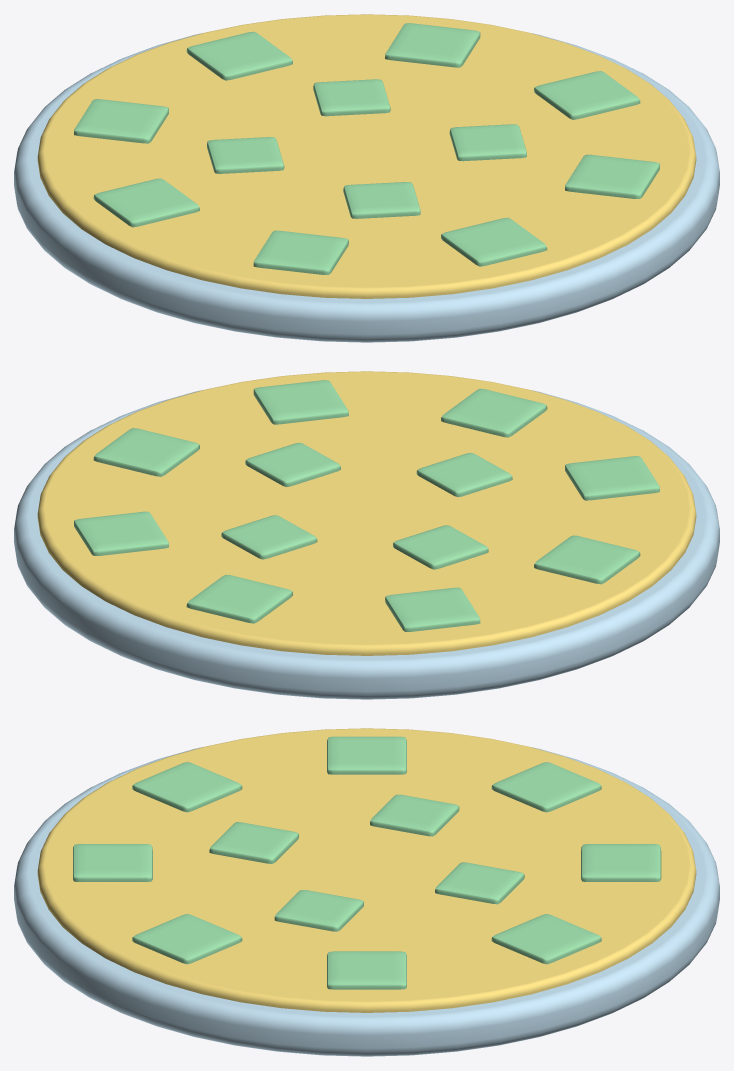
File: DiceDashPadFinish.glb
3 views of the same model, one above another, from view 1: azimuth 30°, elevation 25°; view 2: azimuth 150°, elevation 25°; view 3: azimuth 270°, elevation 25° (orthographic).
Visible parts, largest first — view 1: Top, Base, Icon; view 2: Top, Base, Icon; view 3: Top, Base, Icon.
Part boxes in pixels (x1=…): Top: x1=37, y1=14, x2=696, y2=298; Base: x1=14, y1=33, x2=719, y2=342; Icon: x1=74, y1=23, x2=659, y2=274; Top: x1=37, y1=371, x2=696, y2=655; Base: x1=14, y1=390, x2=719, y2=699; Icon: x1=74, y1=380, x2=659, y2=631; Top: x1=37, y1=728, x2=696, y2=1012; Base: x1=14, y1=747, x2=719, y2=1056; Icon: x1=73, y1=736, x2=661, y2=989.
Bounding box in the file's own units: 15 × 1.24 × 15.
